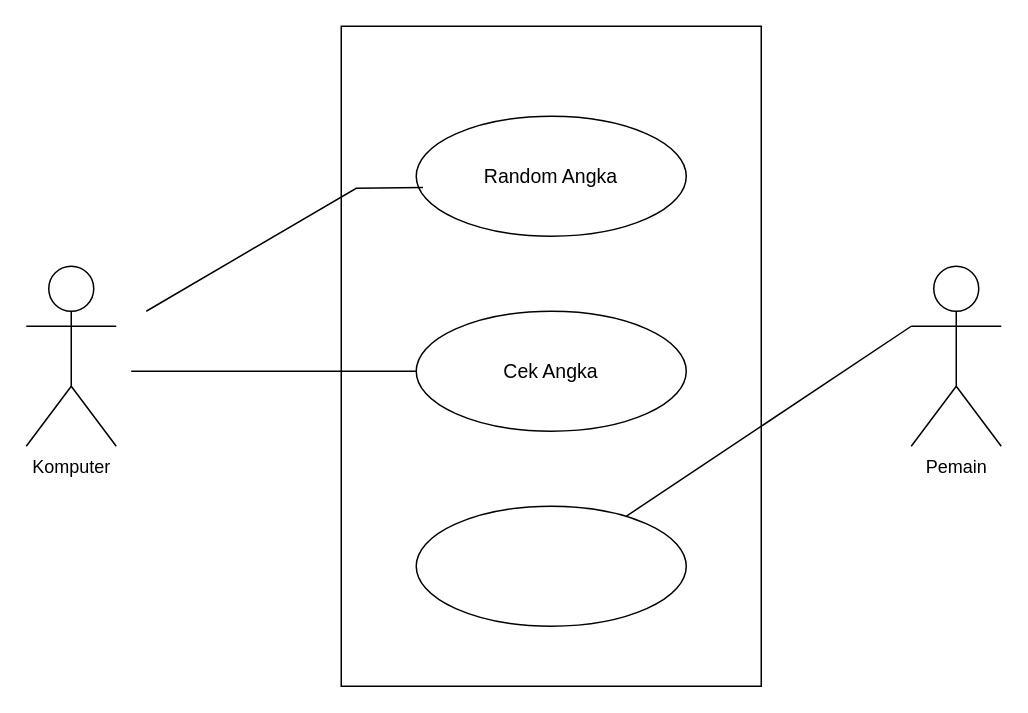
This 1028x713 diagram has some shape labels left out. The box of each missing label's shape, as (x1, y1, x2, y2) in pixels:
Game Tebak Angka: (340, 25, 761, 686)
Menebak Angka: (415, 505, 686, 626)
